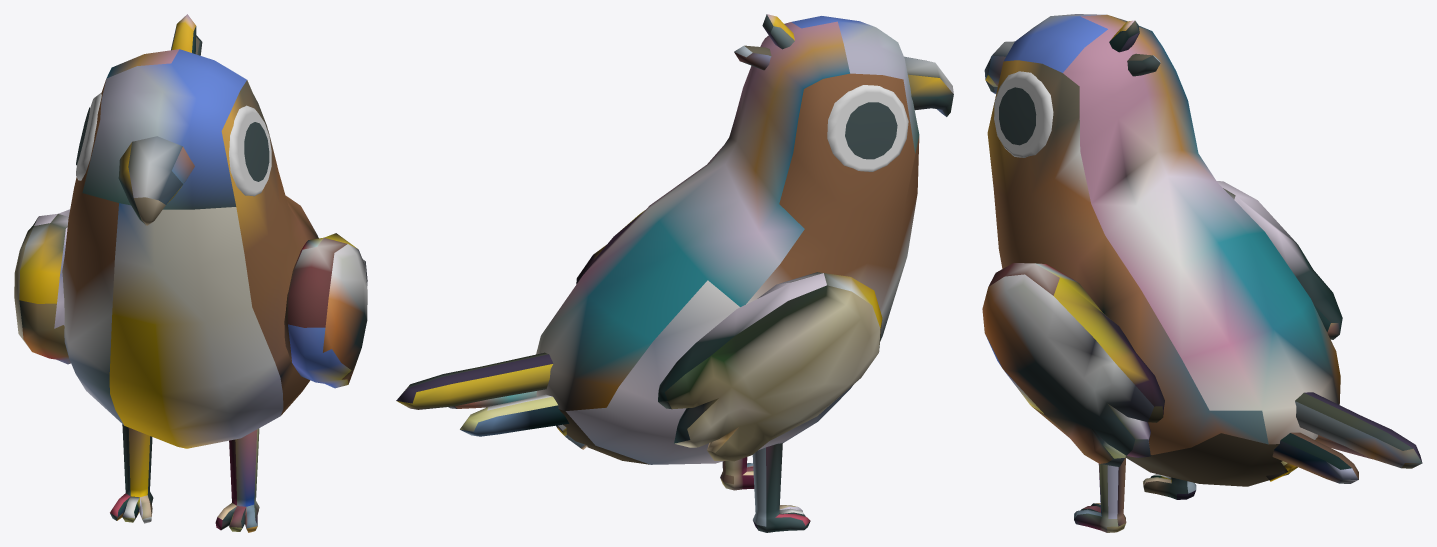
Rendered from Parrot.glb.
3 views of the same model, side by side, from view 1: azimuth 30°, elevation 25°; view 2: azimuth 150°, elevation 25°; view 3: azimuth 270°, elevation 25° (orthographic). The views are drawn at different scales.
Visible parts, largest first — view 1: 118; view 2: 118; view 3: 118.
Part boxes in pixels (x1=…): 118: x1=14, y1=14, x2=367, y2=532; 118: x1=396, y1=14, x2=953, y2=532; 118: x1=982, y1=14, x2=1422, y2=532.
Bounding box in the file's own units: 0.5938 × 0.7625 × 0.6255.
